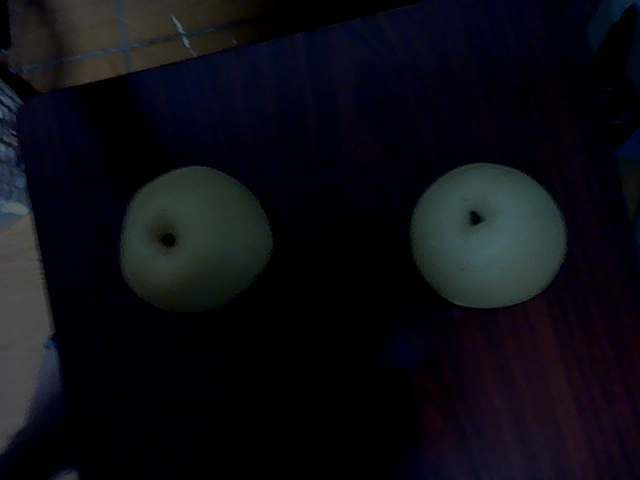pear: (413, 163, 572, 311), (110, 165, 274, 308)
